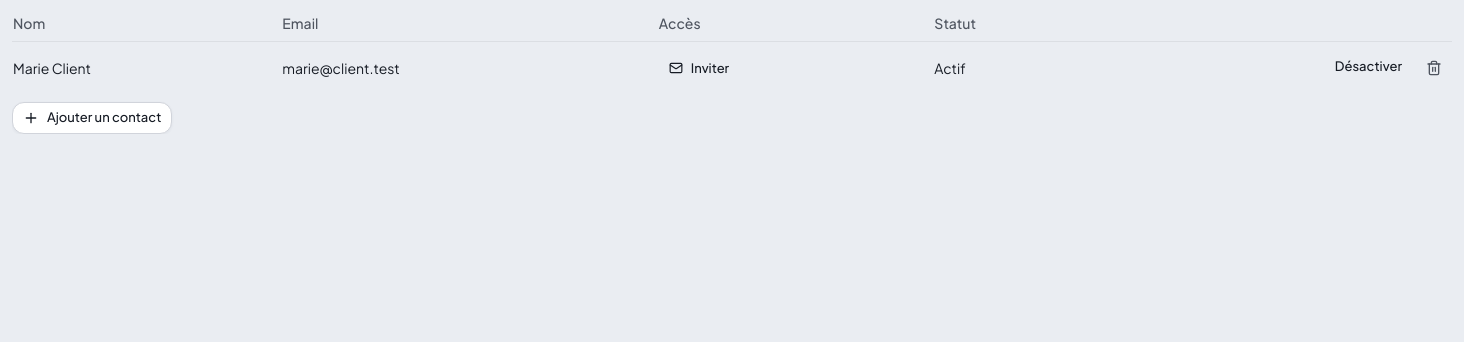
ContactsTab › Lead : invite un contact et voit le lien
What coordinates should you click on to do the following:
click the button "Inviter"
I would click on:
 (699, 68)
Its box is [659, 52, 739, 84].
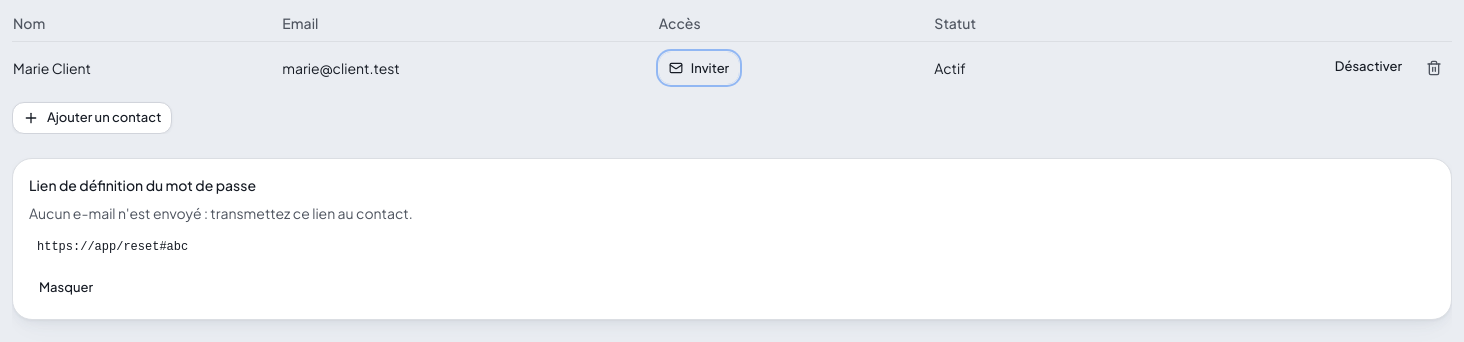
Now the text "https://app/reset#abc" is shown, box [29, 231, 1435, 263]
